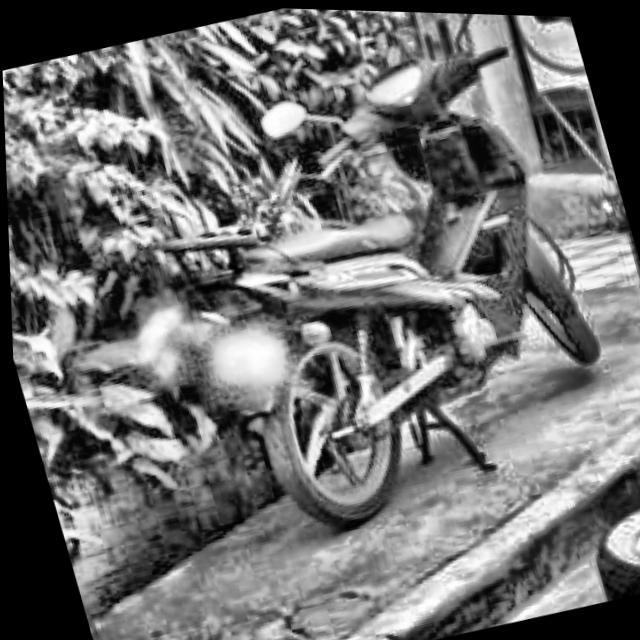motorcycle: (133, 3, 640, 553)
